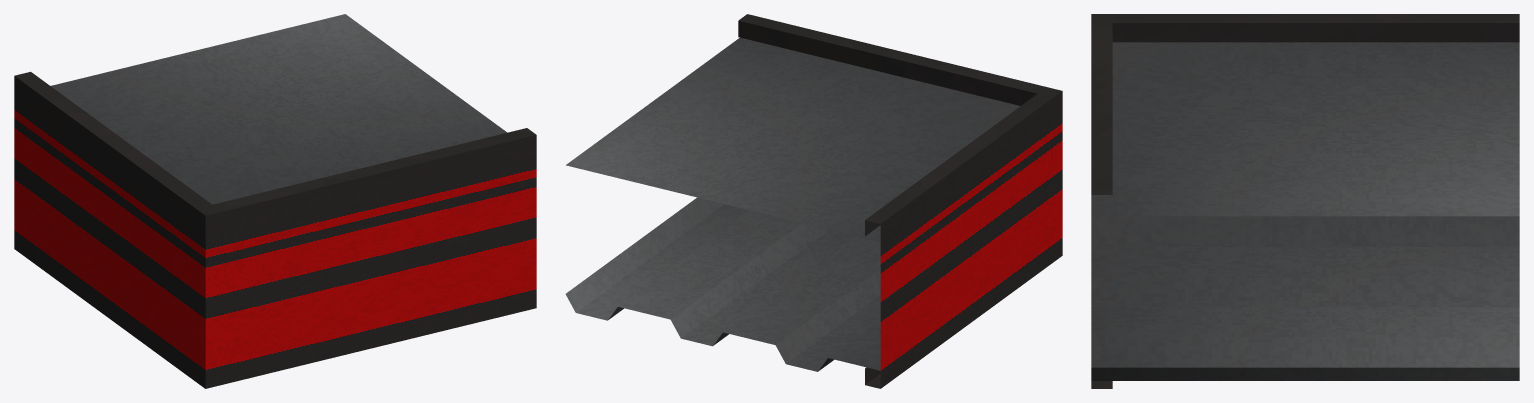
The model's file is GasRoof_2.glb.
3 renders of one model, left to right at view 1: azimuth 30°, elevation 25°; view 2: azimuth 150°, elevation 25°; view 3: azimuth 270°, elevation 25°, orthographic. The views are drawn at different scales.
Parts seen in each view (by area): view 1: GasRoof_2.001; view 2: GasRoof_2.001; view 3: GasRoof_2.001.
Part boxes in pixels (x1,y1,x2,y2): GasRoof_2.001: [14, 14, 536, 388]; GasRoof_2.001: [565, 14, 1062, 388]; GasRoof_2.001: [1091, 14, 1519, 388].
Bounding box in the file's own units: 2 × 1 × 2.
1 material, 1 textured.
